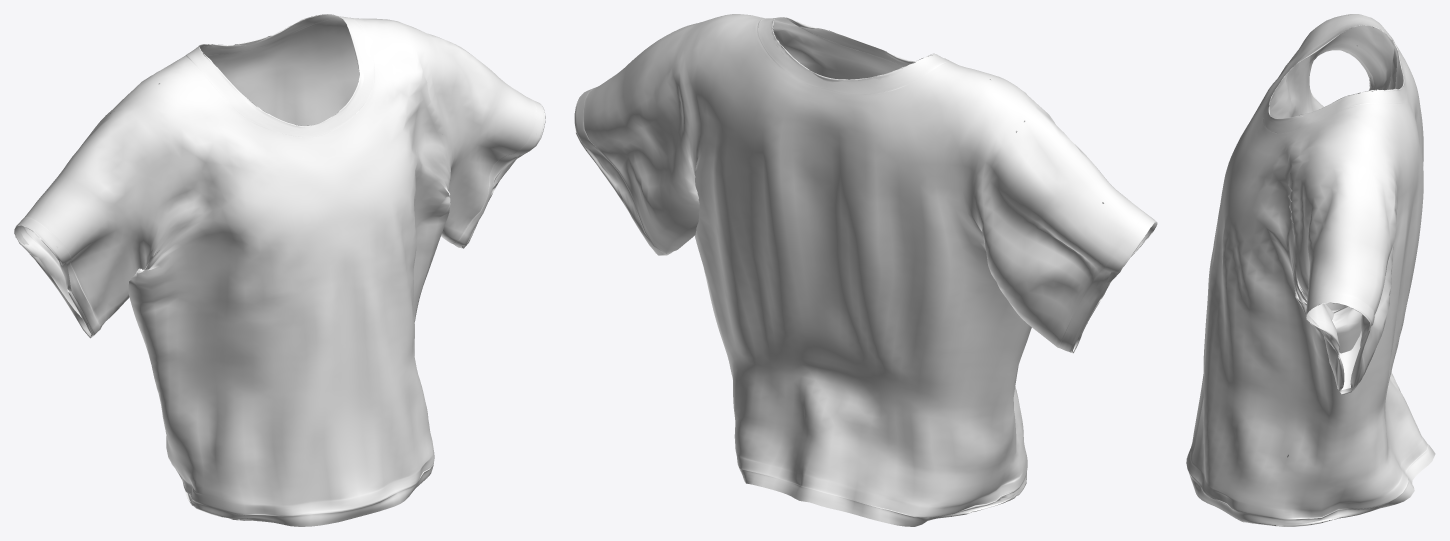
File: Petite_Tshirt_M.glb
3 renders of one model, left to right at view 1: azimuth 30°, elevation 25°; view 2: azimuth 150°, elevation 25°; view 3: azimuth 270°, elevation 25°, orthographic. The views are drawn at different scales.
Visible parts, largest first — view 1: TShirt_for_Genesis.008; view 2: TShirt_for_Genesis.008; view 3: TShirt_for_Genesis.008.
Part boxes in pixels (box(x1,y1,x2,y2)): TShirt_for_Genesis.008: box(14, 14, 545, 526); TShirt_for_Genesis.008: box(574, 14, 1157, 526); TShirt_for_Genesis.008: box(1186, 14, 1435, 526).
Size of the model in its own units: 13.87 by 10.77 by 5.83.
1 material, 1 textured.
